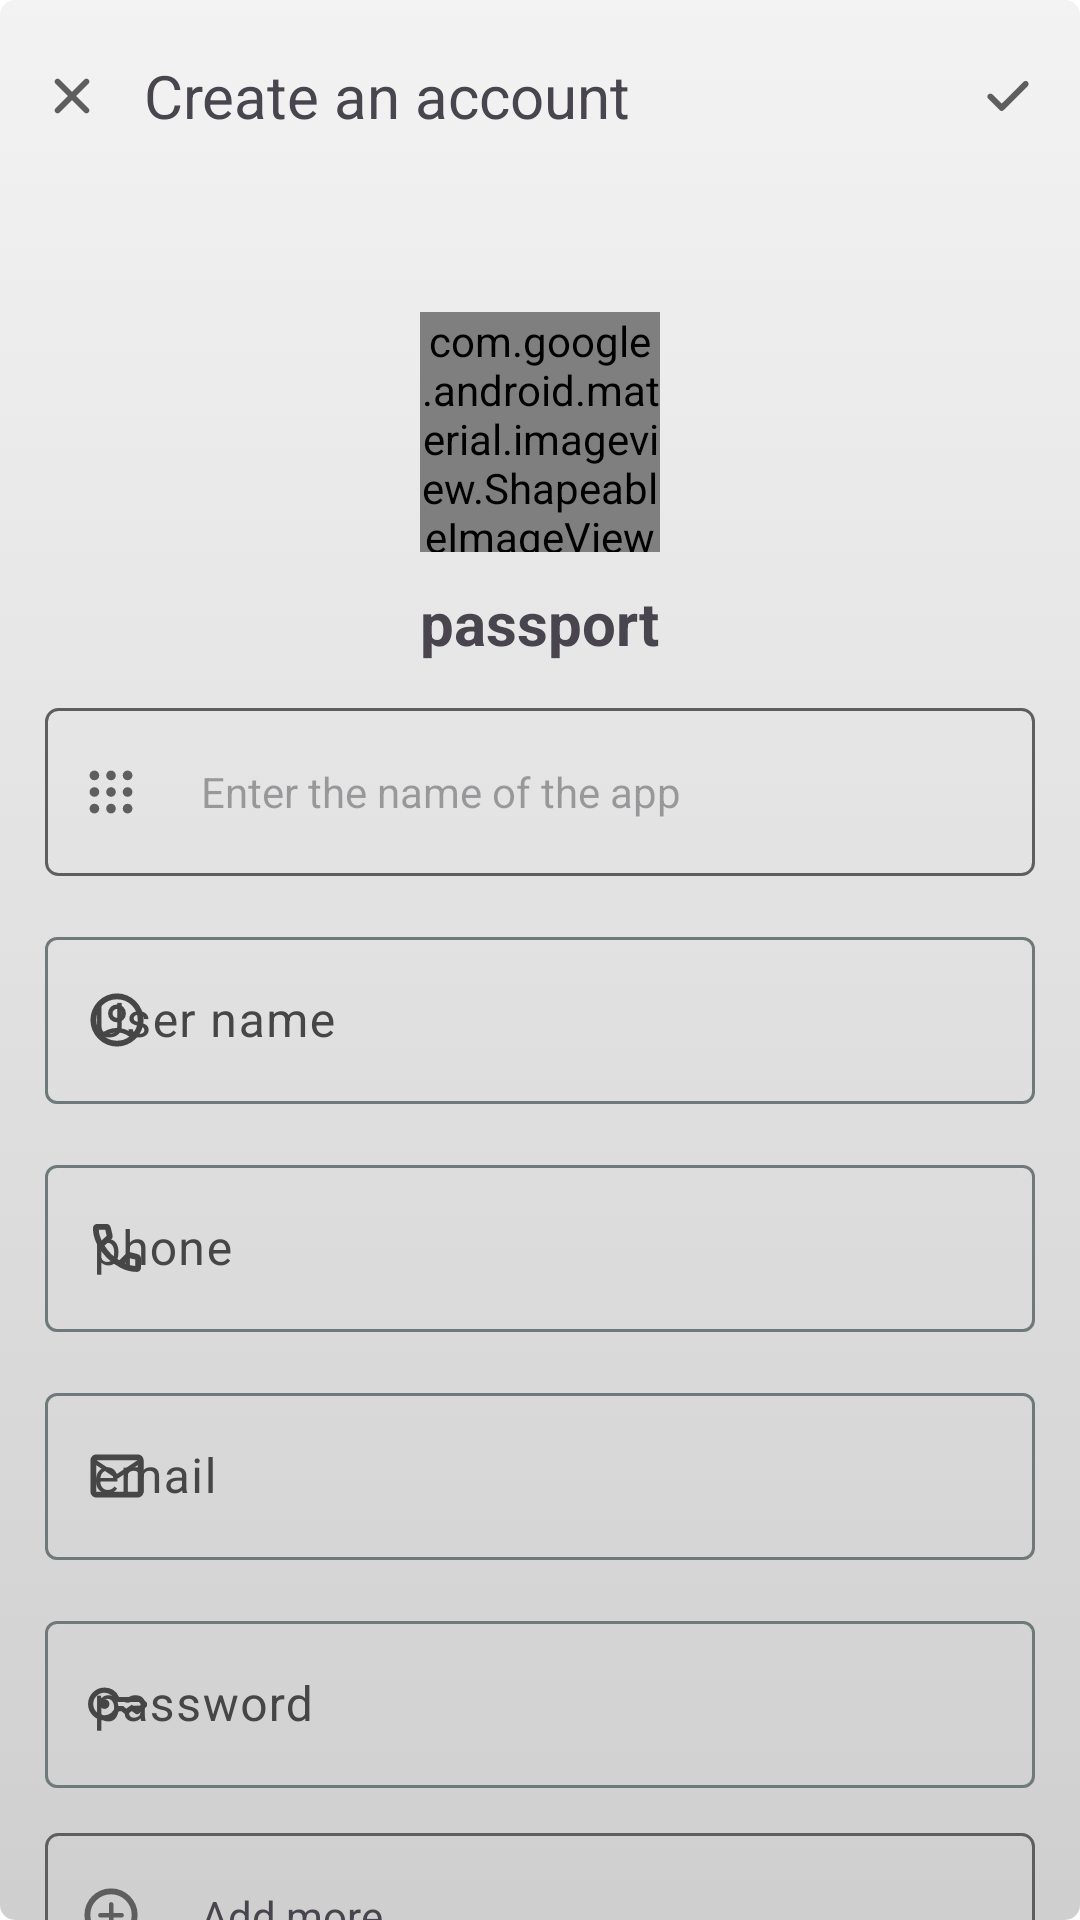

Named icons in this screenshot (1080px×1920px) and their bounding boxes, {"x1": x1, "y1": y1, "x2": x2, "y2": y2}:
close: {"x1": 54, "y1": 78, "x2": 90, "y2": 114}
done: {"x1": 987, "y1": 81, "x2": 1029, "y2": 111}
